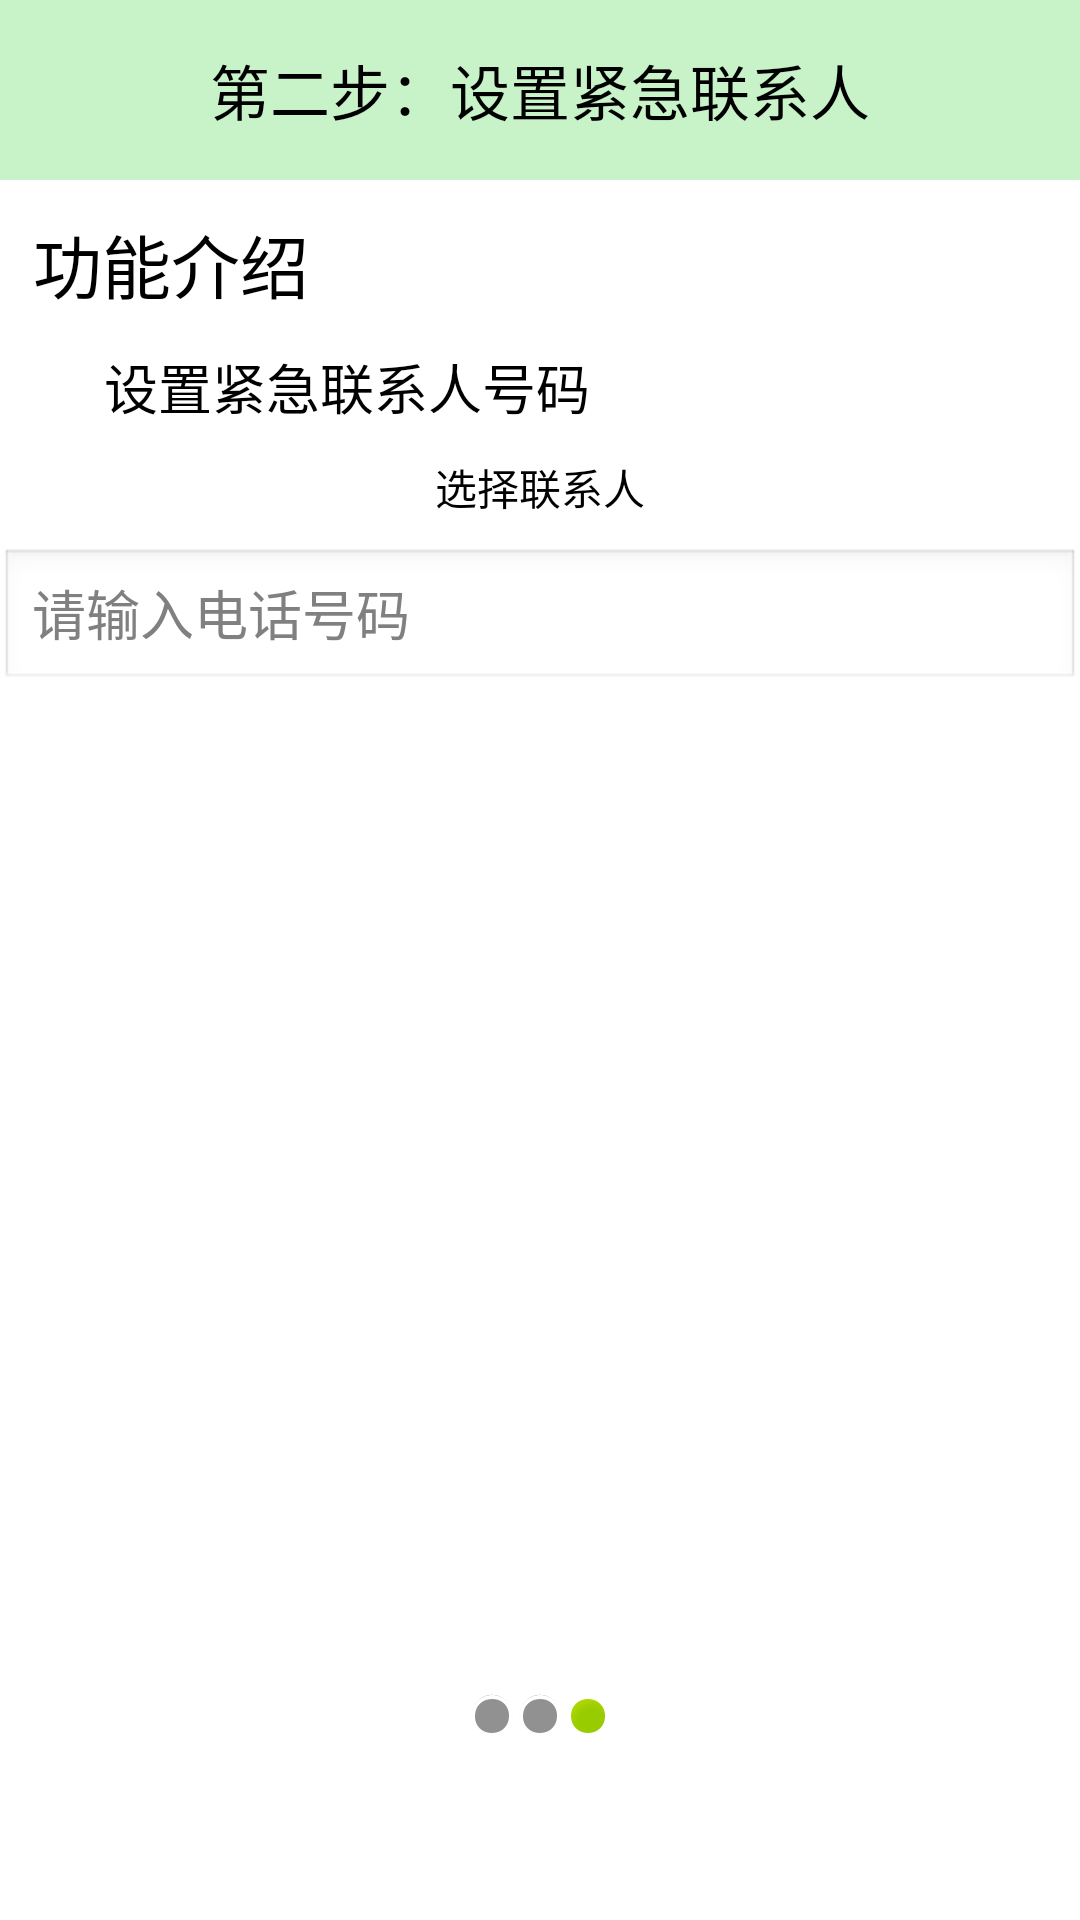

Icon click points for this 1080 × 1920 phone screenshot, format (x=x, y=y):
presence invisible: (x=492, y=1714), (x=540, y=1714)
presence online: (x=588, y=1716)
